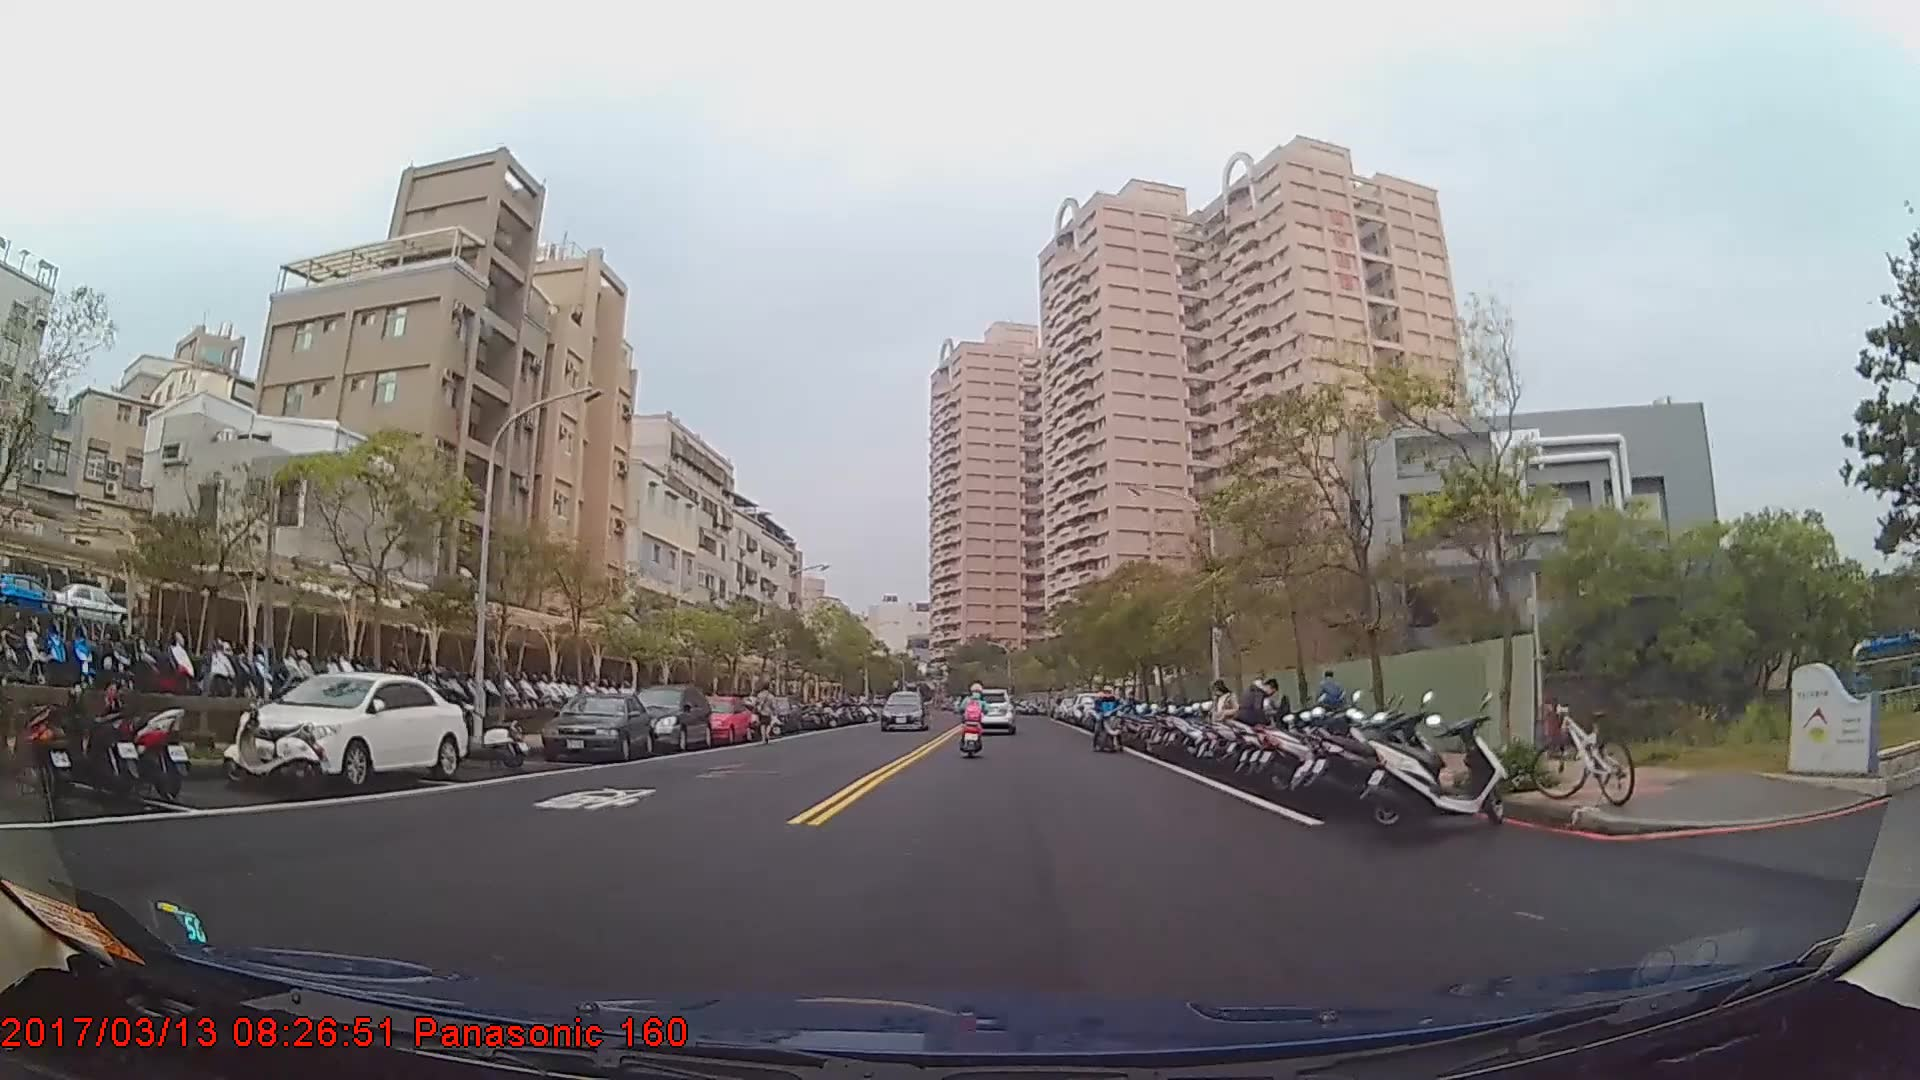pedestrian: (1235, 676, 1282, 775), (1208, 679, 1238, 772), (1313, 668, 1343, 741), (752, 683, 782, 746)
rider: (1092, 686, 1126, 755), (959, 683, 989, 755)
vehicle: (233, 669, 469, 786), (538, 691, 653, 762), (629, 683, 710, 749), (679, 694, 752, 746), (962, 689, 1016, 733), (880, 688, 928, 732)
